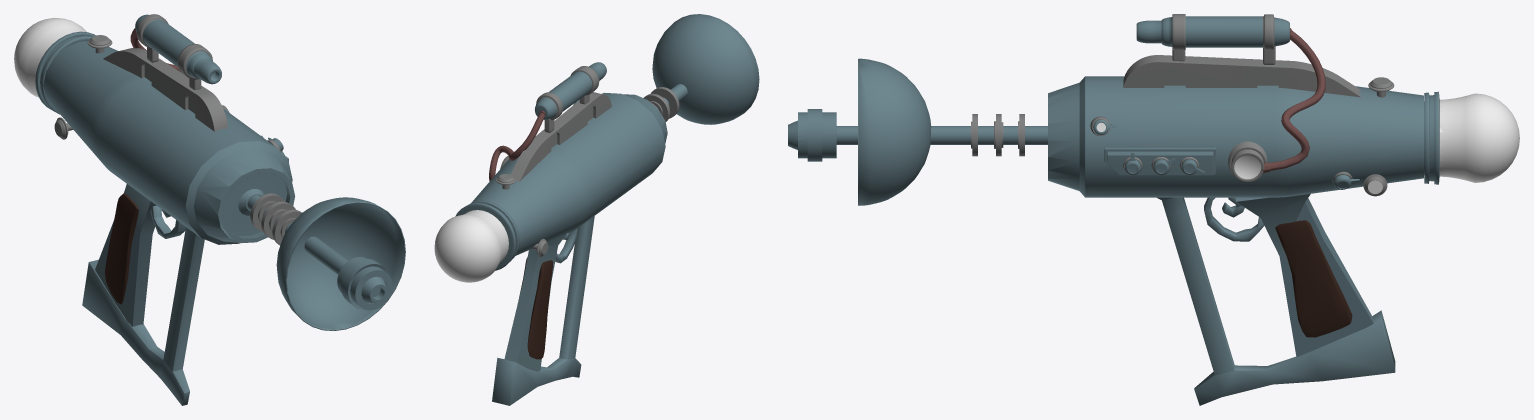
Rendered from Gun Model.fbx.
3 views of the same model, side by side, from view 1: azimuth 30°, elevation 25°; view 2: azimuth 150°, elevation 25°; view 3: azimuth 270°, elevation 25° (orthographic). The views are drawn at different scales.
Visible parts, largest first — view 1: Circle.003, Sphere, Cube.001, Cube.004, Cylinder, Cube, Cube.011, Sphere.002, Cylinder.018, Sphere.001, Circle.001, Cylinder.001 (+3 smaller); view 2: Circle.003, Sphere, Cube.001, Sphere.002, Cube, Cube.004, Cube.011, Sphere.001, Cylinder.018, NurbsPath, Cylinder.012, Cylinder.001 (+3 smaller); view 3: Circle.003, Cube.001, Sphere, Sphere.002, Cube.004, Cube, Cube.010, Cylinder, Cylinder.018, Cube.007, NurbsPath, Sphere.001 (+4 smaller).
Boxes of the visible parts, x1,y1,x2,y2 form: Circle.003: (43,41,295,244); Sphere: (276,197,405,330); Cube.001: (82,227,204,405); Cube.004: (103,48,228,131); Cylinder: (247,195,392,310); Cube: (95,184,156,326); Cube.011: (104,193,138,304); Sphere.002: (14,17,86,97); Cylinder.018: (143,19,194,66); Sphere.001: (35,31,95,114); Circle.001: (250,193,301,245); Cylinder.001: (135,14,221,84); Circle.003: (471,92,667,255); Sphere: (652,14,759,124); Cube.001: (492,216,594,405); Sphere.002: (434,210,508,282); Cube: (504,233,566,371); Cube.004: (510,92,611,181); Cube.011: (527,260,552,359); Sphere.001: (455,200,519,270); Cylinder.018: (549,71,592,111); NurbsPath: (489,110,545,181); Cylinder.012: (536,66,599,120); Cylinder.001: (535,62,606,119); Circle.003: (1048,76,1423,197); Cube.001: (1157,197,1395,405); Sphere: (858,58,931,205); Sphere.002: (1439,93,1519,182); Cube.004: (1123,55,1360,97); Cube: (1236,194,1373,357); Cube.010: (1275,220,1352,337); Cylinder: (788,109,1047,161); Cylinder.018: (1185,16,1262,47); Cube.007: (1104,147,1215,175); NurbsPath: (1262,28,1325,172); Sphere.001: (1424,91,1439,184).
Size of the model in its own units: 942 by 2599 by 4429.
